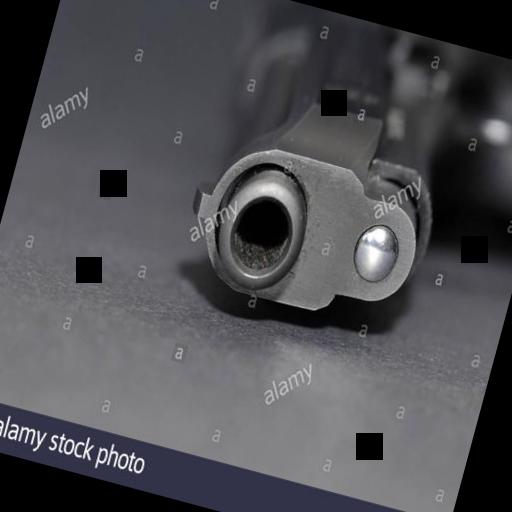Handgun: (170, 0, 512, 352)
